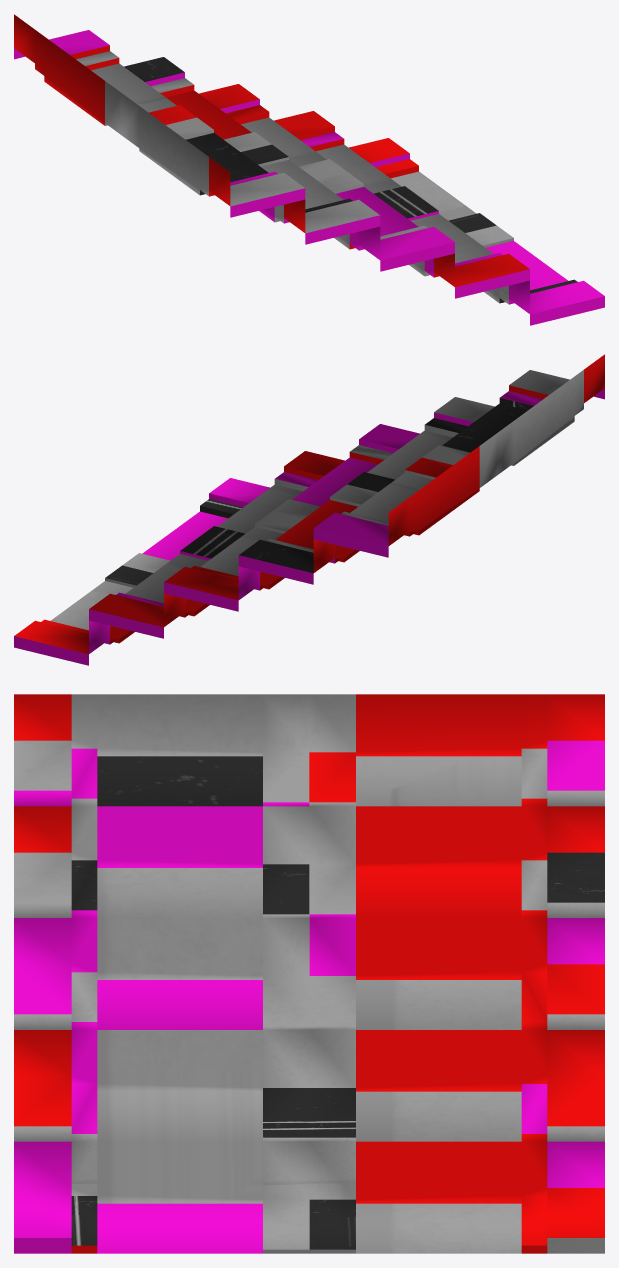
File: Floor-Stairs.fbx
3 views of the same model, one above another, from view 1: azimuth 30°, elevation 25°; view 2: azimuth 150°, elevation 25°; view 3: azimuth 270°, elevation 25° (orthographic). The views are drawn at different scales.
Parts seen in each view (by area): view 1: Stairs; view 2: Stairs; view 3: Stairs.
Part boxes in pixels (x1=…): Stairs: x1=14, y1=14, x2=604, y2=325; Stairs: x1=14, y1=354, x2=604, y2=665; Stairs: x1=14, y1=694, x2=604, y2=1253.
Bounding box in the file's own units: 78.74 × 45.47 × 78.74.
Materials: 4 (2 with a texture image).
